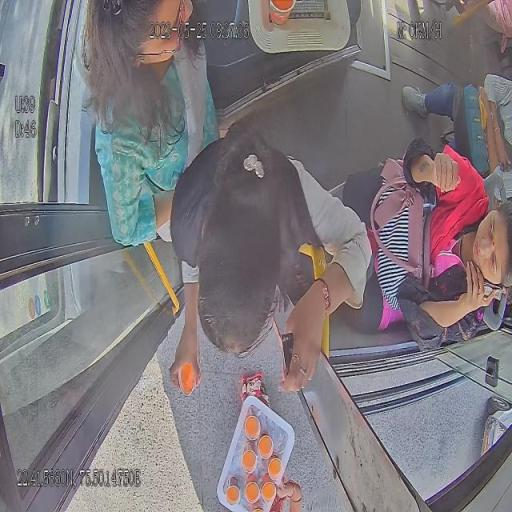persona: (168, 128, 374, 398), (340, 137, 512, 353), (75, 0, 221, 250), (402, 74, 511, 178)
